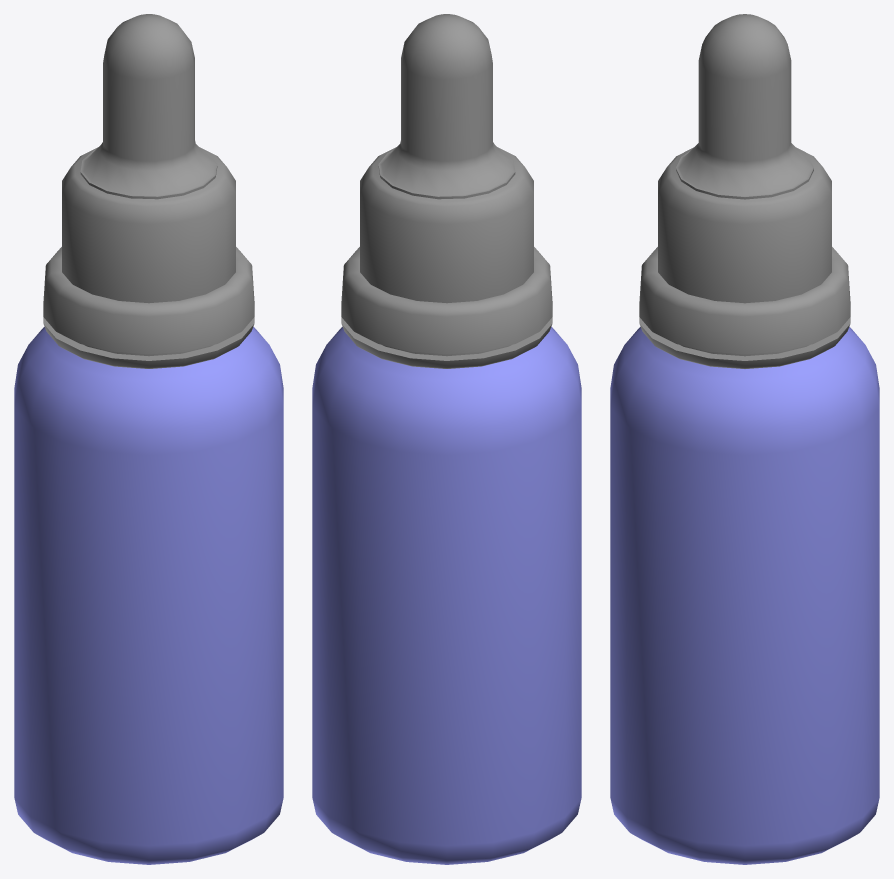
File: SM_Dropper_Pipette_LOD0.FBX
3 renders of one model, left to right at view 1: azimuth 30°, elevation 25°; view 2: azimuth 150°, elevation 25°; view 3: azimuth 270°, elevation 25°, orthographic.
Visible parts, largest first — view 1: SM_Dropper_Pipette_Glass, SM_Dropper_Pipette; view 2: SM_Dropper_Pipette_Glass, SM_Dropper_Pipette; view 3: SM_Dropper_Pipette_Glass, SM_Dropper_Pipette.
Boxes of the visible parts, bbox=[...] form: SM_Dropper_Pipette_Glass: bbox=[14, 327, 283, 864]; SM_Dropper_Pipette: bbox=[43, 14, 254, 368]; SM_Dropper_Pipette_Glass: bbox=[312, 327, 581, 864]; SM_Dropper_Pipette: bbox=[341, 14, 552, 368]; SM_Dropper_Pipette_Glass: bbox=[610, 327, 879, 864]; SM_Dropper_Pipette: bbox=[639, 14, 850, 368].
Size of the model in its own units: 0.033 by 0.1066 by 0.0325.
